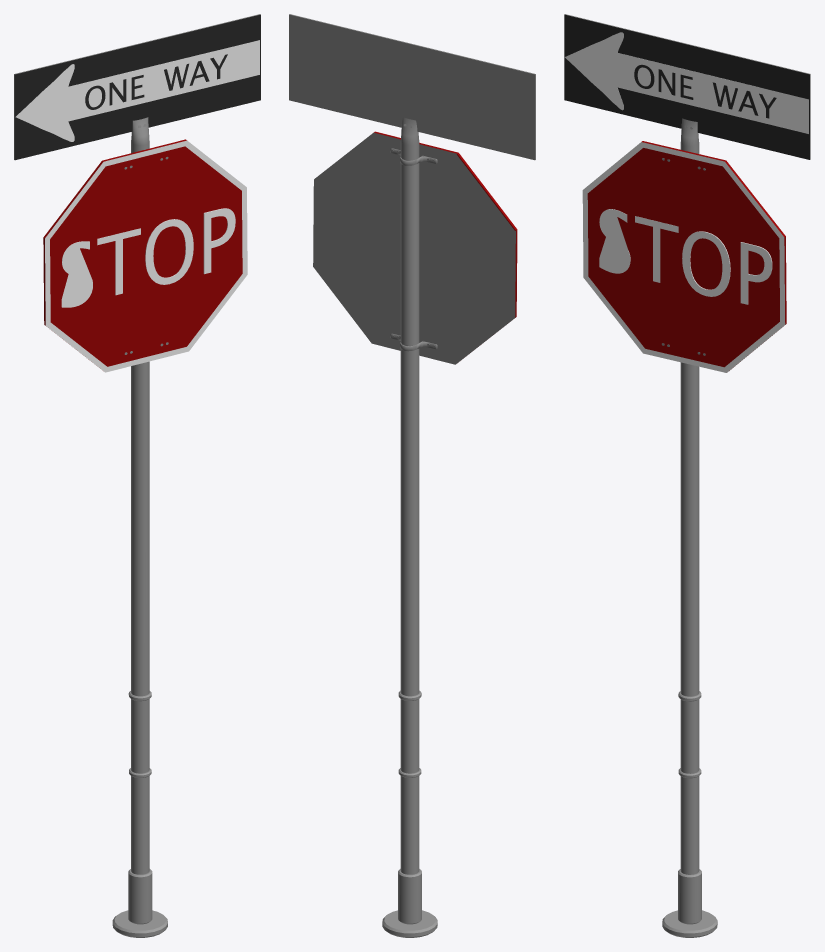
The model's file is AW_LeftOneWayStopStreetSign11_DF.fbx.
3 views of the same model, side by side, from view 1: azimuth 30°, elevation 25°; view 2: azimuth 150°, elevation 25°; view 3: azimuth 330°, elevation 25° (orthographic).
Visible parts, largest first — view 1: pCylinder137; view 2: pCylinder137; view 3: pCylinder137.
Part boxes in pixels (x1,y1,x2,y2): pCylinder137: (14,14,260,937); pCylinder137: (289,14,535,937); pCylinder137: (564,14,810,937).
Size of the model in its own units: 1.37 by 4.71 by 0.2693.
